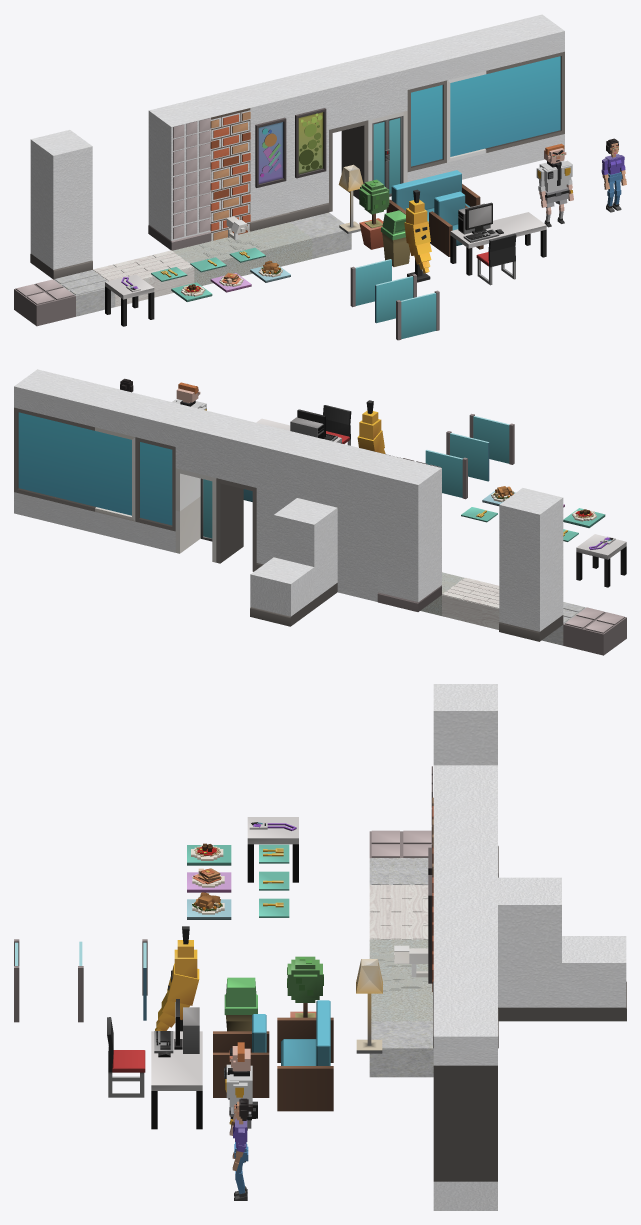
File: thewholething2.fbx
3 views of the same model, one above another, from view 1: azimuth 30°, elevation 25°; view 2: azimuth 150°, elevation 25°; view 3: azimuth 270°, elevation 25° (orthographic). The views are drawn at different scales.
Parts seen in each view (by area): view 1: mesh_alpha (×4), mesh_wall_tiles, mesh_wall_blue1, mesh_wall_brick, mesh_door, mesh_wall_plain, mesh_wall_blue, mesh_door_slide, mesh_wall_window_one, mesh_wall_window_right, mesh_wall_window_left, mesh_wall_window_mid (+29 smaller); view 2: mesh_alpha (×4), mesh_wall_blue1, mesh_wall_tiles, mesh_wall_brick, mesh_door, mesh_door_slide, mesh_wall_plain_2, mesh_wall_blue, mesh_wall_window_one, mesh_wall_plain_1, mesh_wall_window_left, mesh_wall_window_right (+16 smaller); view 3: mesh_wall_window_left, mesh_wall_plain_2, mesh_armchair1, mesh_wall_plain_1, mesh_wall_blue1, mesh_floor_concrete, mesh_floor_wood, mesh_armchair, mesh_desk, mesh_banana, mesh_wall_brick, mesh_wall_tiles (+23 smaller).
Boxes of the visible parts, bbox=[...] form: mesh_alpha (×4): bbox=[411, 56, 560, 166]; mesh_wall_tiles: bbox=[148, 101, 210, 250]; mesh_wall_blue1: bbox=[30, 130, 92, 279]; mesh_wall_brick: bbox=[188, 91, 250, 240]; mesh_door: bbox=[306, 62, 368, 211]; mesh_wall_plain: bbox=[228, 81, 289, 231]; mesh_wall_blue: bbox=[267, 72, 329, 221]; mesh_door_slide: bbox=[346, 53, 407, 182]; mesh_wall_window_one: bbox=[385, 43, 446, 181]; mesh_wall_window_right: bbox=[424, 33, 486, 179]; mesh_wall_window_left: bbox=[503, 14, 564, 163]; mesh_wall_window_mid: bbox=[464, 24, 525, 173]; mesh_alpha (×4): bbox=[18, 412, 172, 525]; mesh_wall_blue1: bbox=[499, 488, 563, 641]; mesh_wall_tiles: bbox=[377, 458, 441, 611]; mesh_wall_brick: bbox=[337, 448, 401, 601]; mesh_door: bbox=[216, 418, 279, 571]; mesh_door_slide: bbox=[175, 409, 238, 562]; mesh_wall_plain_2: bbox=[273, 498, 337, 609]; mesh_wall_blue: bbox=[256, 428, 319, 569]; mesh_wall_window_one: bbox=[135, 399, 198, 552]; mesh_wall_plain_1: bbox=[250, 557, 314, 626]; mesh_wall_window_left: bbox=[14, 369, 77, 522]; mesh_wall_window_right: bbox=[95, 389, 157, 542]; mesh_wall_window_left: bbox=[433, 1009, 497, 1210]; mesh_wall_plain_2: bbox=[498, 877, 561, 1021]; mesh_armchair1: bbox=[277, 1000, 333, 1111]; mesh_wall_plain_1: bbox=[561, 936, 626, 1021]; mesh_wall_blue1: bbox=[433, 684, 498, 877]; mesh_floor_concrete: bbox=[369, 1021, 433, 1077]; mesh_floor_wood: bbox=[369, 884, 428, 939]; mesh_armchair: bbox=[213, 1014, 269, 1097]; mesh_desk: bbox=[151, 1031, 202, 1129]; mesh_banana: bbox=[155, 926, 199, 1031]; mesh_wall_brick: bbox=[432, 792, 497, 991]; mesh_wall_tiles: bbox=[431, 765, 497, 847].
Bounding box in the file's own units: 14 × 3.5 × 9.55.
15 materials, 5 textured.
